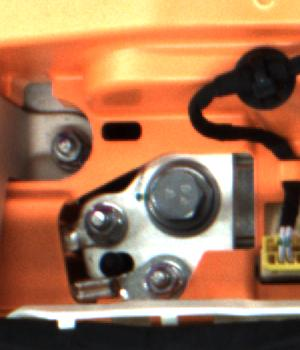nut_b: (147, 159, 223, 236)
